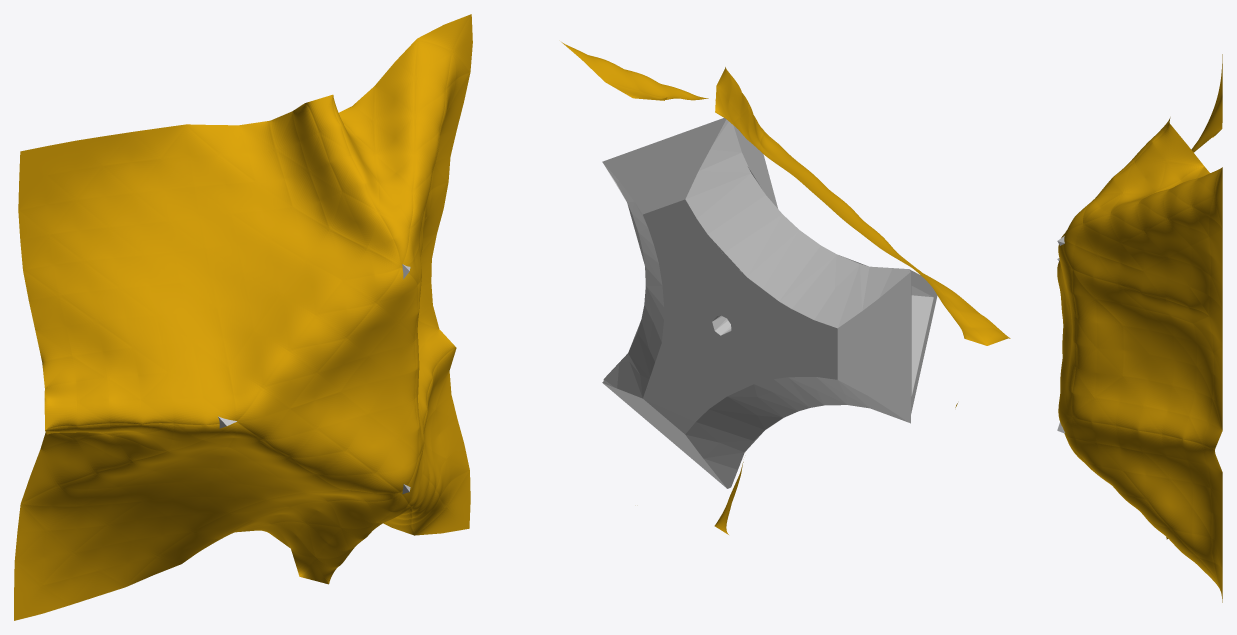
The model's file is nsubdiv.glb.
The picture shows the model from 3 angles, left to right: view 1: azimuth 30°, elevation 25°; view 2: azimuth 150°, elevation 25°; view 3: azimuth 270°, elevation 25°; orthographic projection. The views are drawn at different scales.
Visible parts, largest first — view 1: level_4.ply; view 2: object.obj, level_4.ply; view 3: level_4.ply.
Part boxes in pixels (x1,y1,x2,y2): level_4.ply: [14, 14, 472, 620]; object.obj: [602, 118, 937, 488]; level_4.ply: [561, 42, 1010, 534]; level_4.ply: [1057, 54, 1222, 602].
Size of the model in its own units: 0.5333 by 0.5487 by 0.1864.
